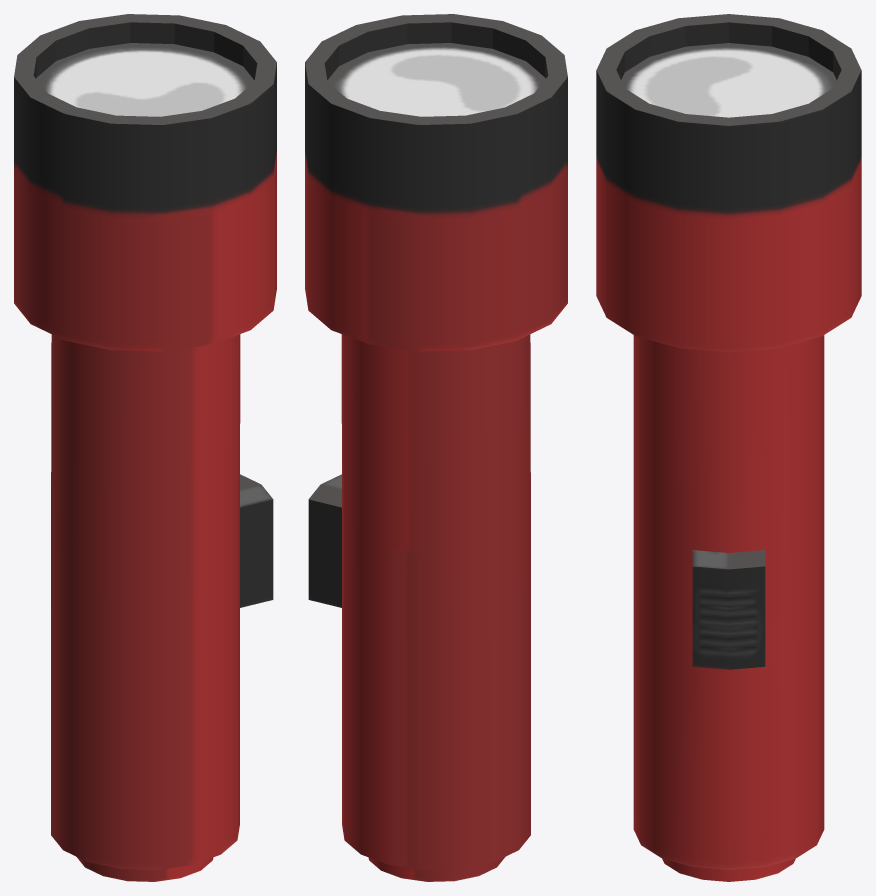
File: flashlight.fbx
3 views of the same model, side by side, from view 1: azimuth 30°, elevation 25°; view 2: azimuth 150°, elevation 25°; view 3: azimuth 270°, elevation 25° (orthographic).
Parts seen in each view (by area): view 1: polySurface4; view 2: polySurface4; view 3: polySurface4.
Part boxes in pixels (x1=…): polySurface4: x1=14, y1=14, x2=276, y2=881; polySurface4: x1=305, y1=14, x2=567, y2=881; polySurface4: x1=596, y1=14, x2=861, y2=881.
Bounding box in the file's own units: 87.74 × 284 × 87.31.
